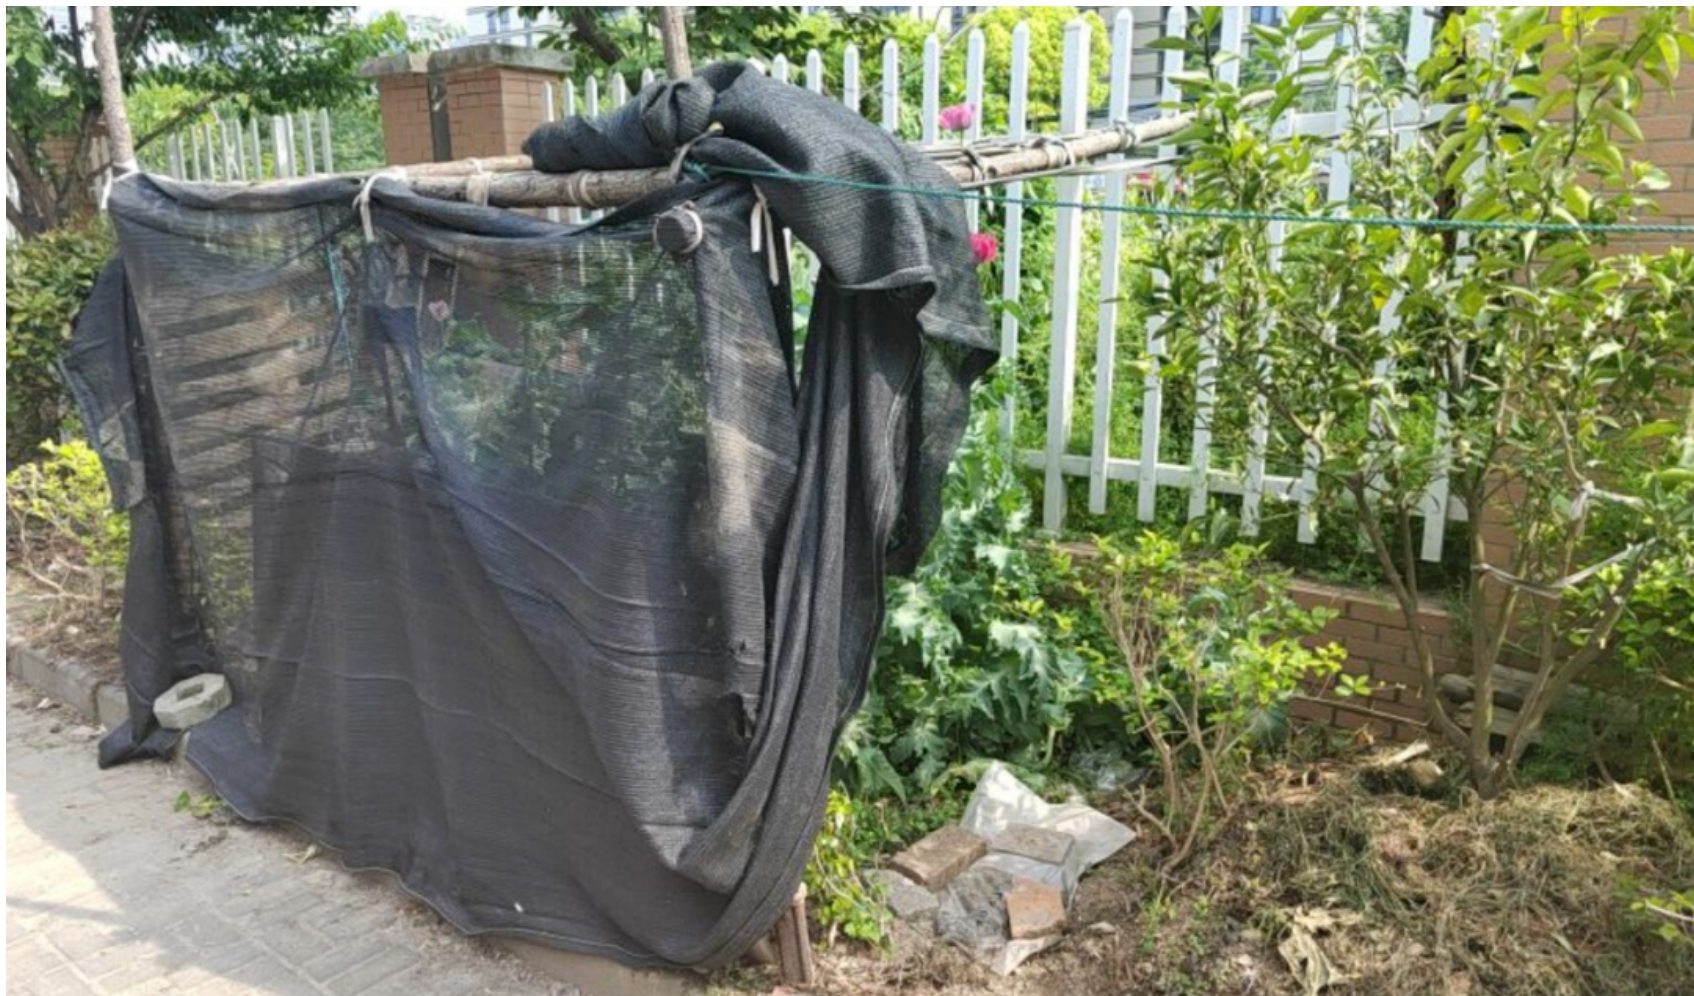Poppy: (881, 92, 1129, 783)
